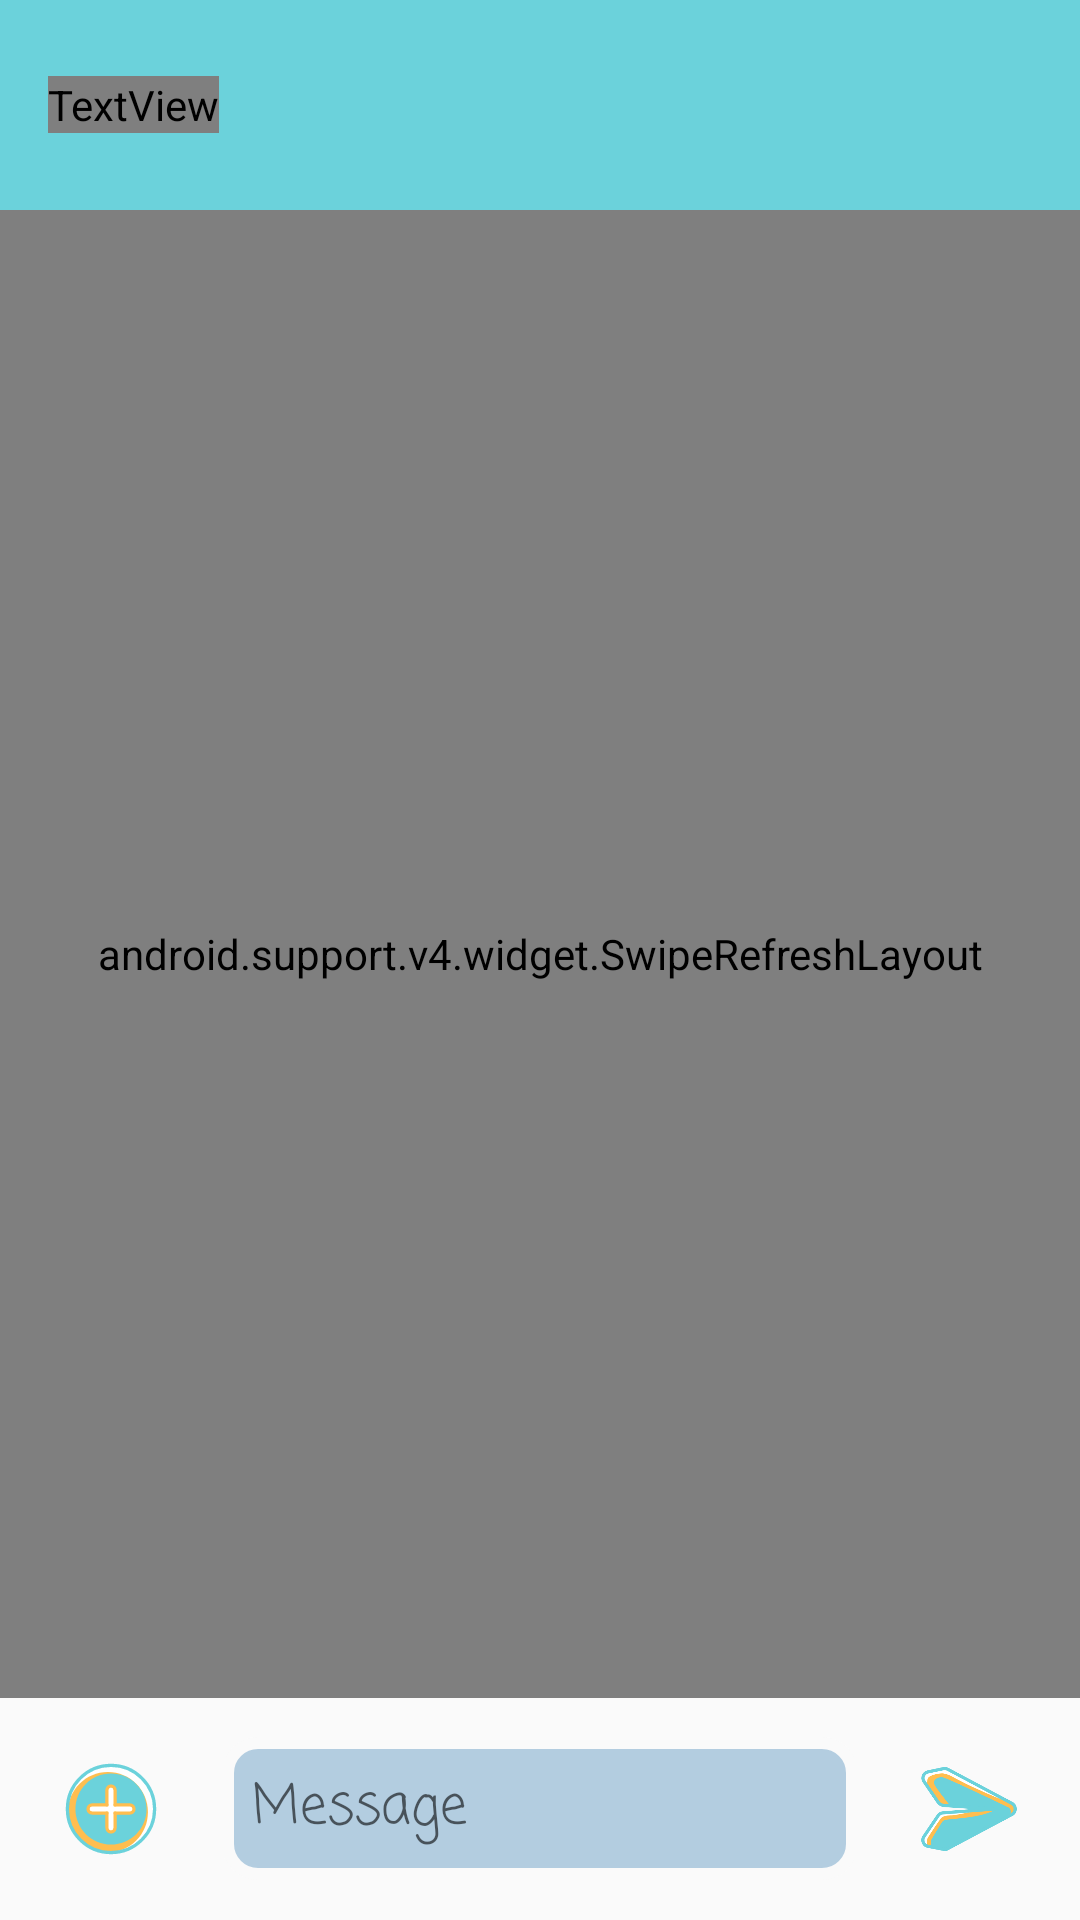

Screen size 1080 × 1920. Icon name, then its center in pixels as [x,y]:
chat add: [111,1809]
chat send: [969,1809]
